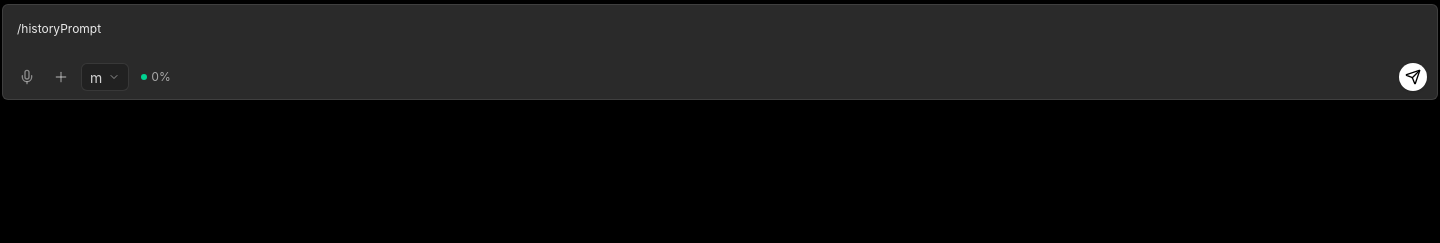
Test case: AgentInput /historyPrompt 历史提示词面板 › ↑↓ 切换激活项，Enter 整体回填选中历史且面板关闭、不发送
Focus the field with class "cm-content" at (59, 28), box [17,21,101,36]
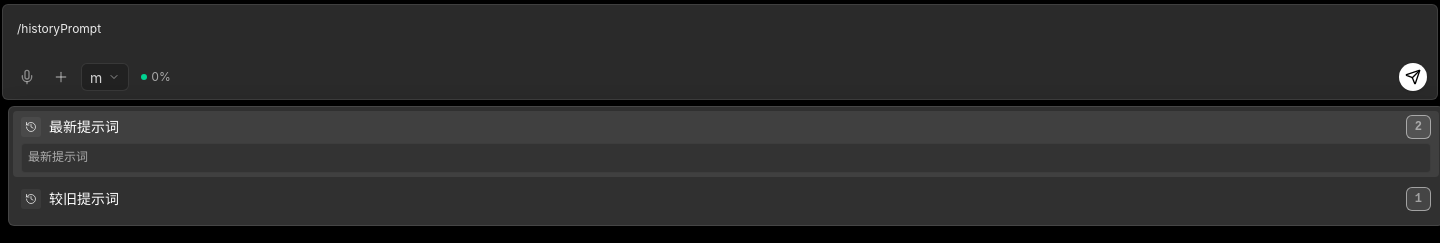
Press ArrowDown in the field with class "cm-content", box [17,21,101,36]
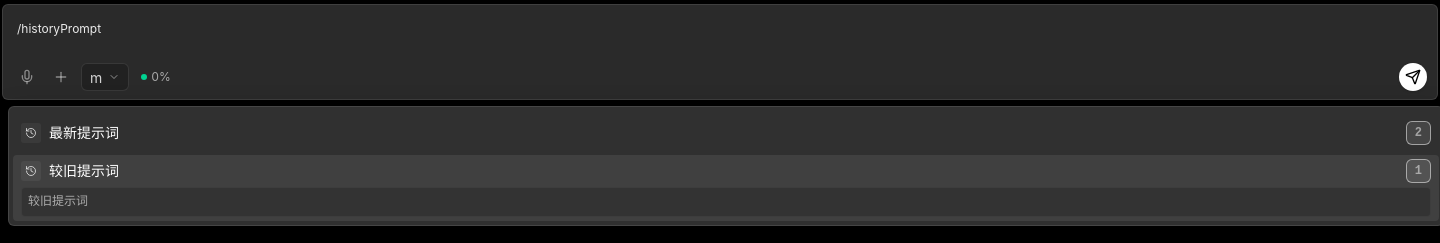
Press Enter in the field with class "cm-content", box [17,21,101,36]
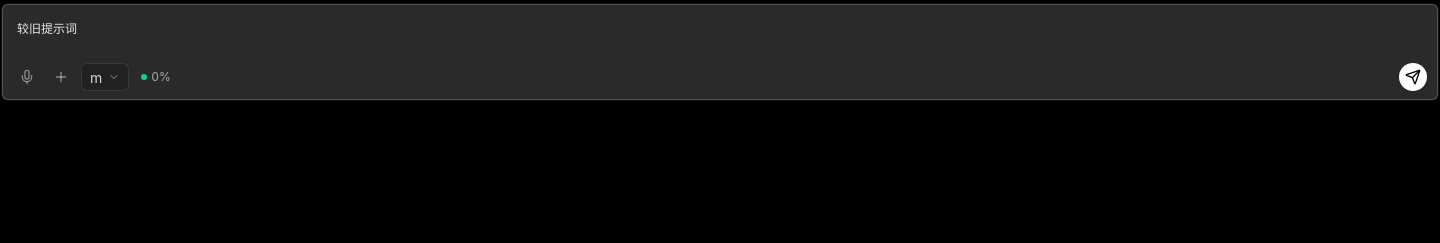
Check: the field with class "cm-content" reads "较旧提示词", box [17,21,77,36]
Check: no options are shown
